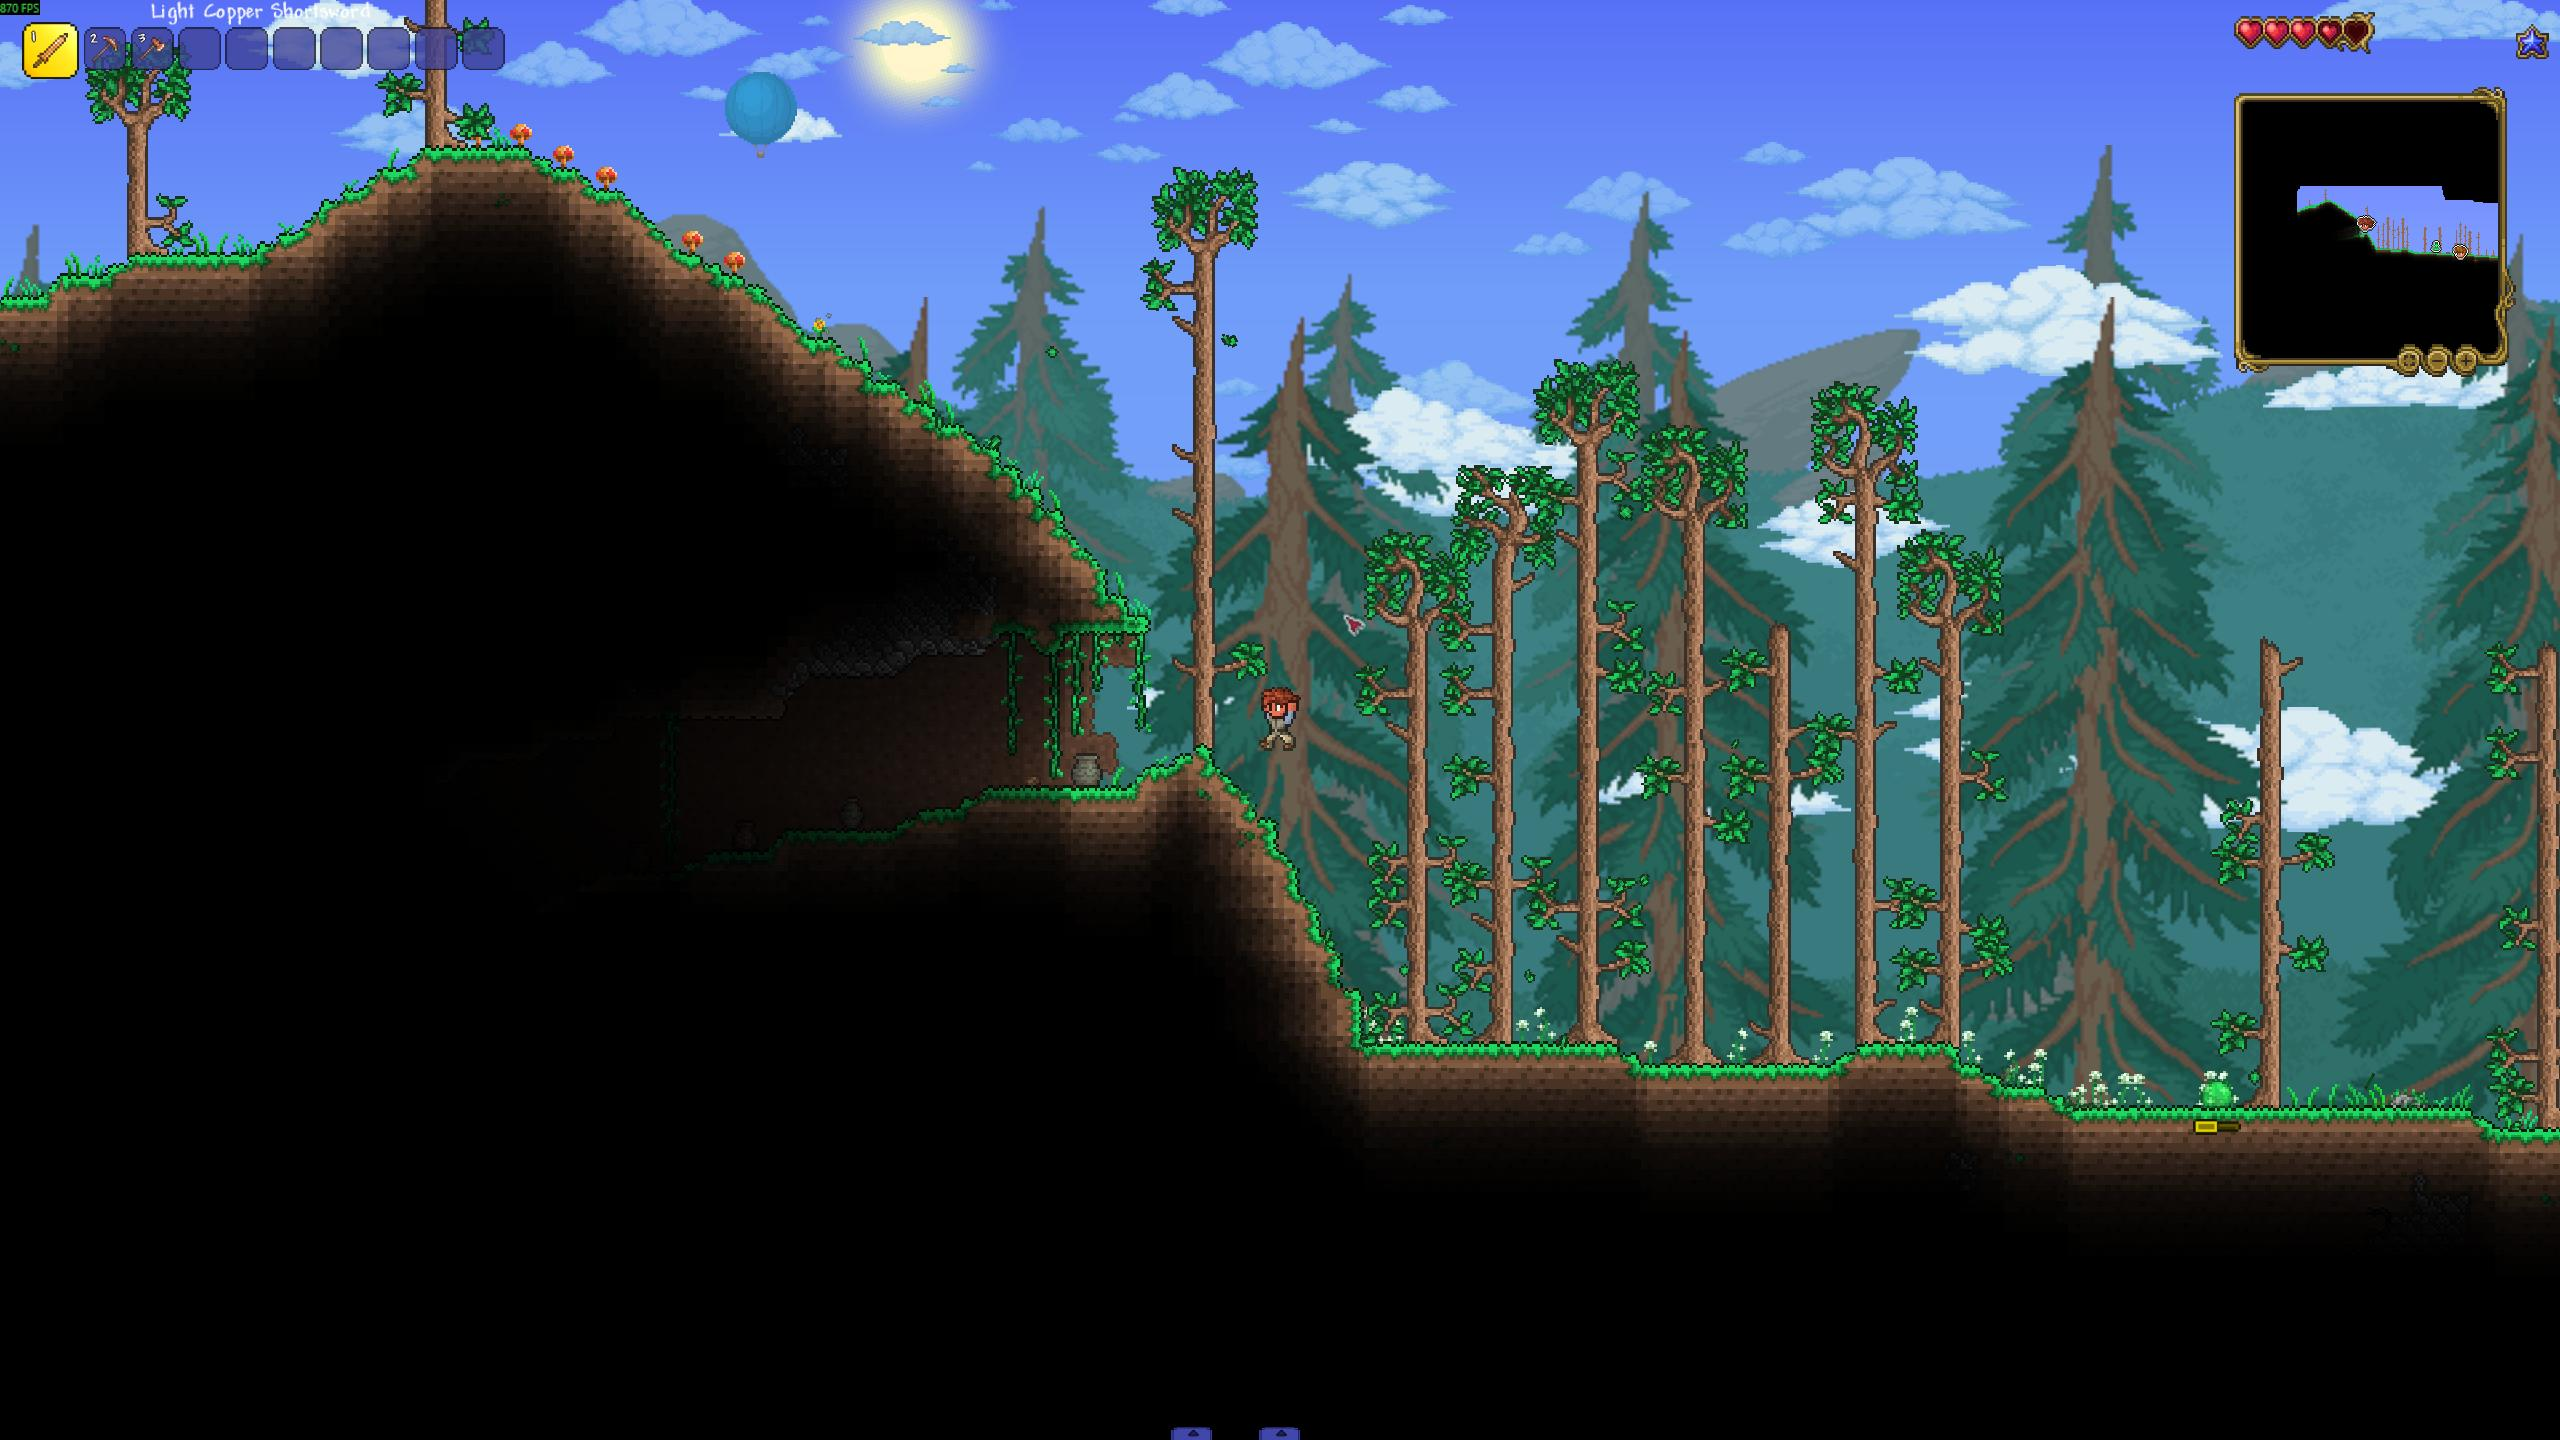Green Slime: (2196, 1076, 2236, 1109)
